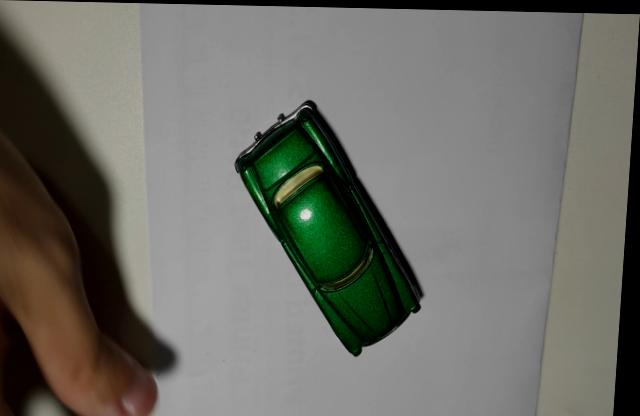06_MASERATI: (235, 97, 428, 353)
